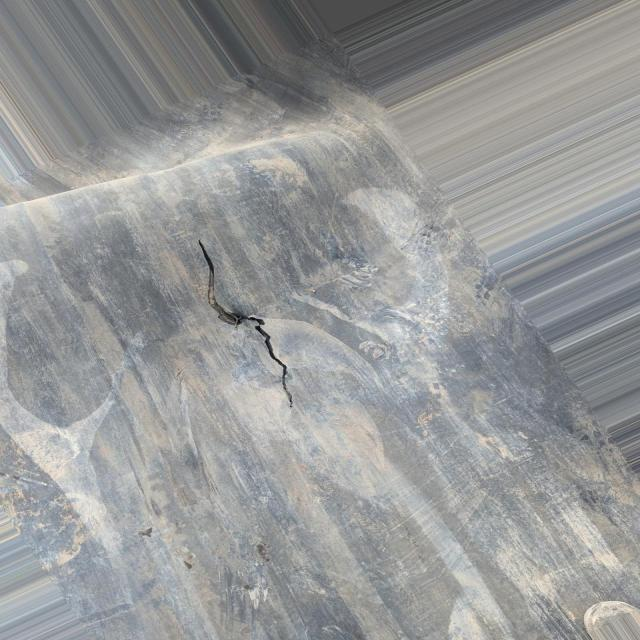Tear: (189, 233, 308, 415)
